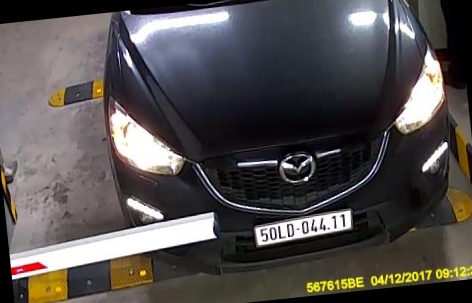plate: (246, 205, 358, 249)
